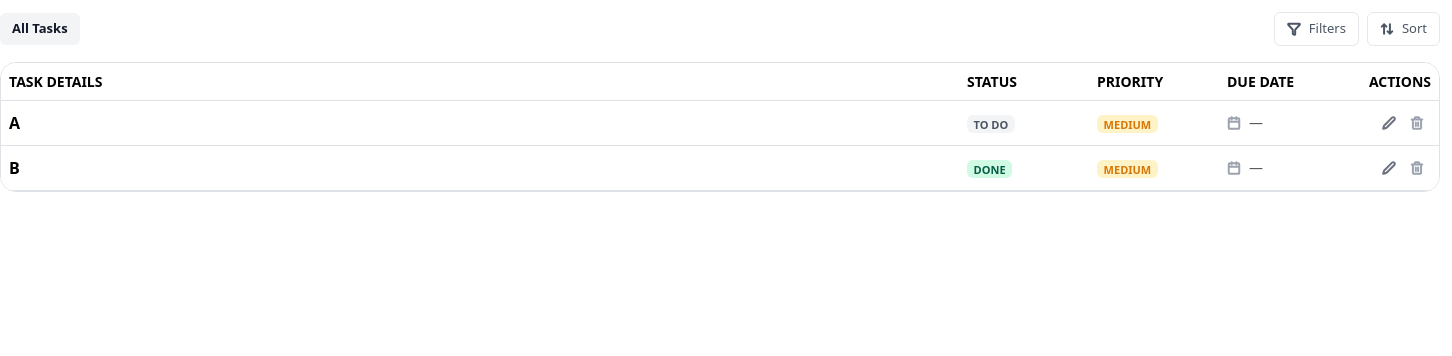
Test: TaskListComponent › filters › shows an active-filter count badge and clears filters via "Clear filters"
The image size is (1452, 356).
Click the button with class "chrome-btn" showing "Filters": (1316, 29) [1274, 12, 1359, 46]
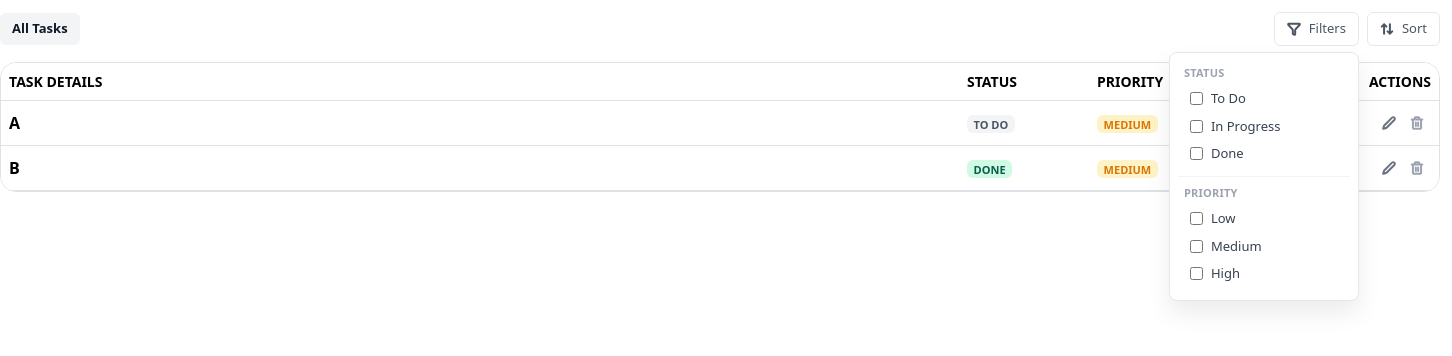
Click the checkbox labelled "To Do": (1196, 99) [1190, 92, 1203, 105]
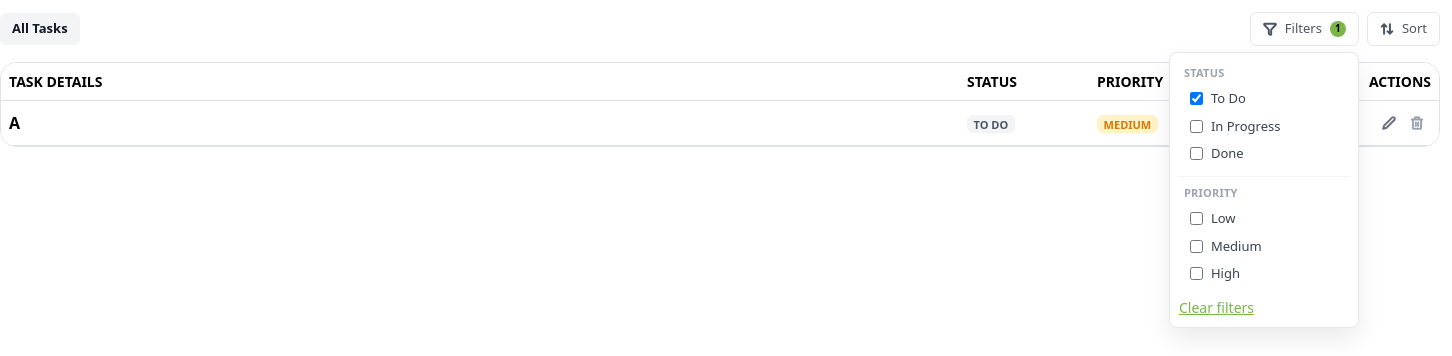
Click the button with class "btn-link": (1216, 307) [1178, 296, 1255, 319]
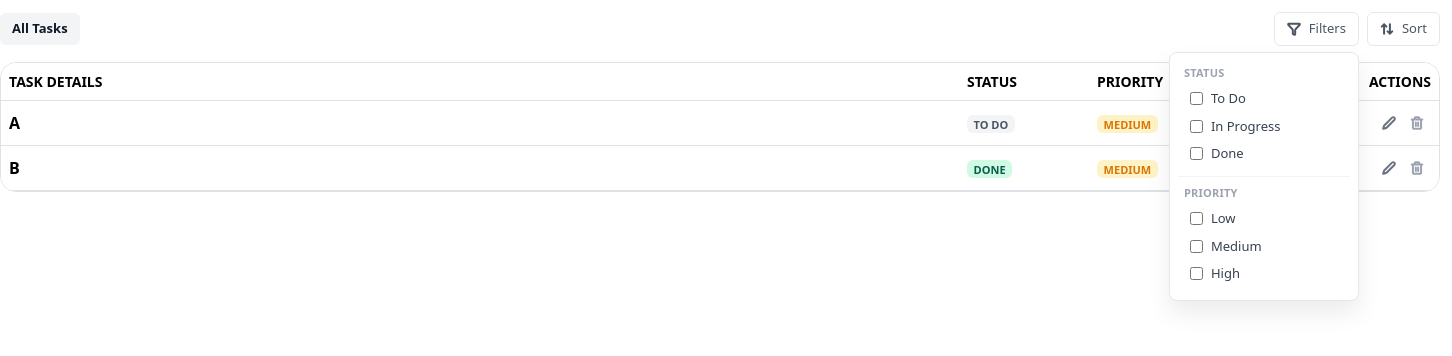
Check: the text with class "filter-count-badge" is gone
